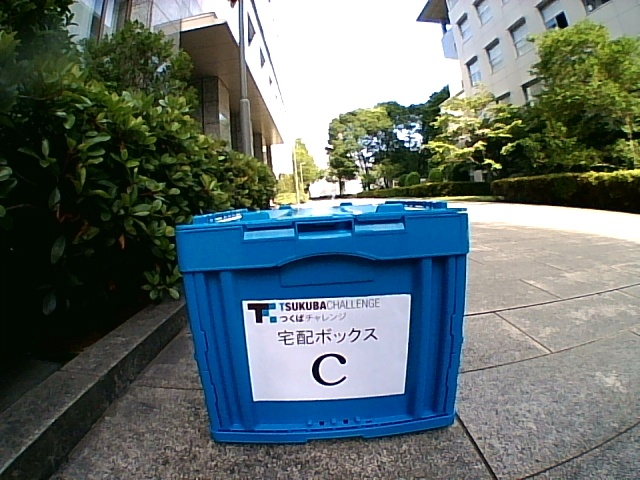green_box: (175, 201, 468, 444)
tag_c: (254, 300, 404, 395)
